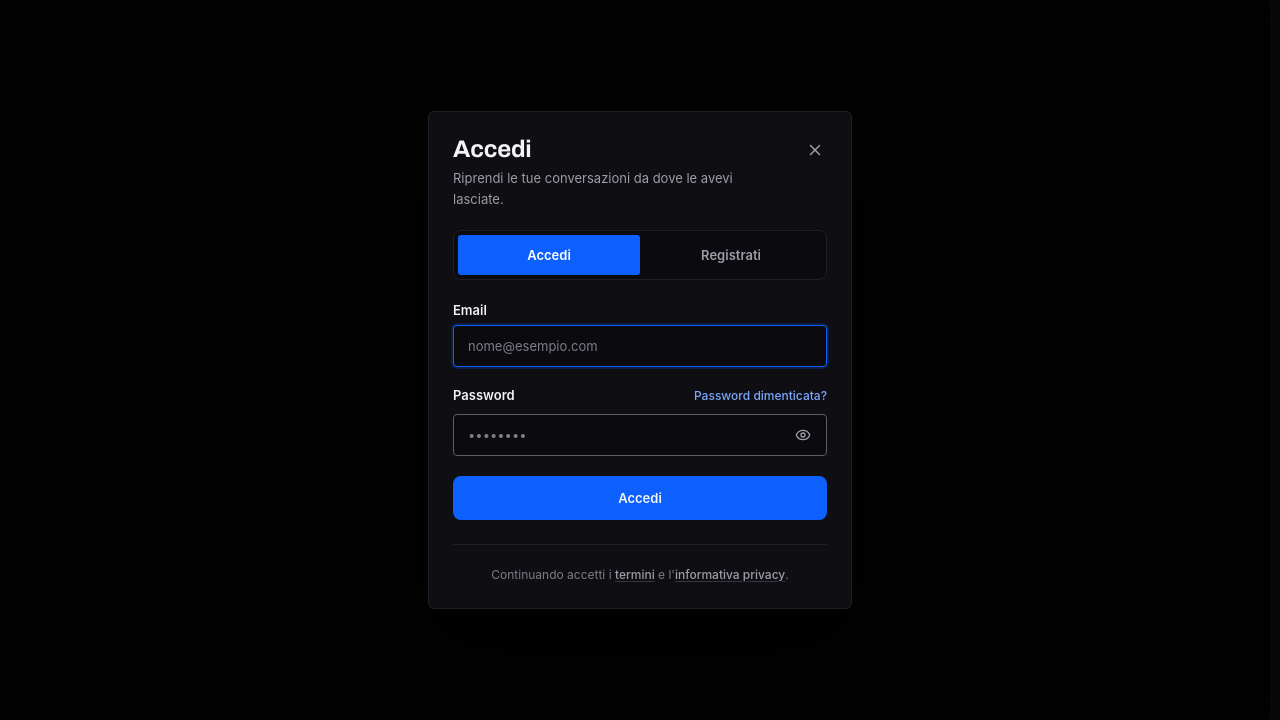
Test: validazione istantanea › segnala un indirizzo non valido solo dopo che il campo e' stato lasciato
Step 1. Type "non-un-indirizzo" into the field labelled "Email" → (640, 346), box top-left (453, 325), bottom-right (827, 367)
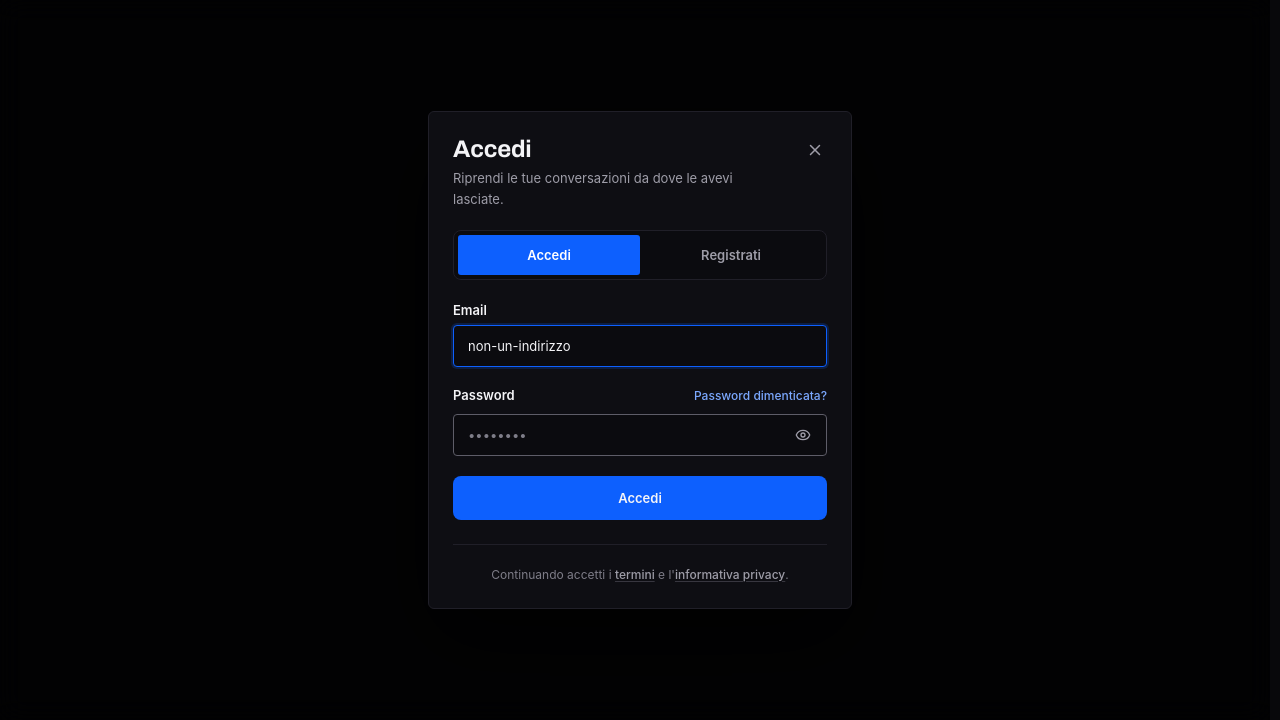
Expected: the text "indirizzo email non valido" is not shown
Step 2. Press Tab
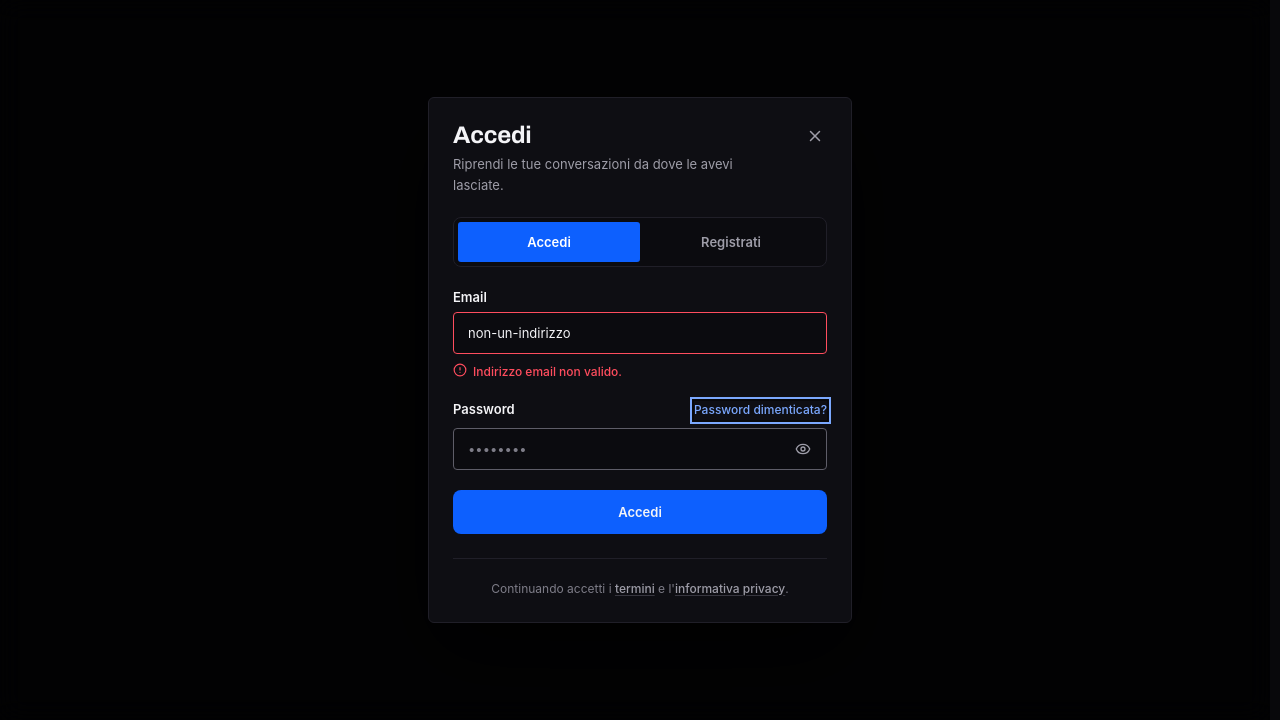
Now the text "Indirizzo email non valido." is shown, box top-left (453, 363), bottom-right (622, 379)
